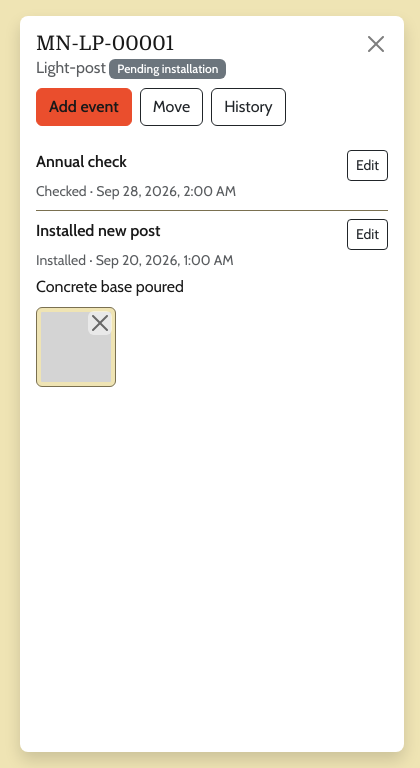
Test: adds an event, shows it first, and tells the map the new status of the asset
Check: the text "Annual check" is shown, box left=36, top=150, right=127, bottom=181
Click the button "Add event" at (84, 107), box left=36, top=88, right=132, bottom=126
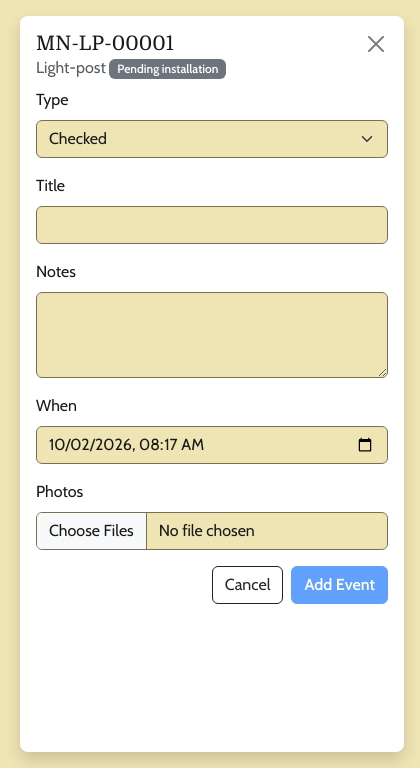
Select "Repaired" in the dropdown labelled "Type" at (212, 139), box left=36, top=120, right=388, bottom=158
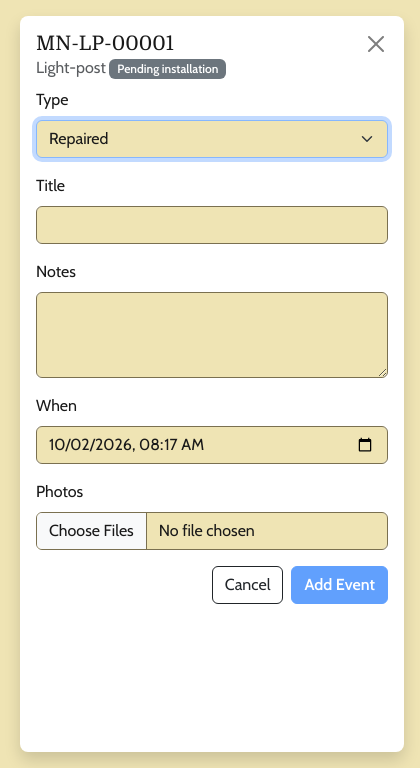
Type "Replaced lamp" into the field labelled "Title" at (212, 225), box left=36, top=206, right=388, bottom=244
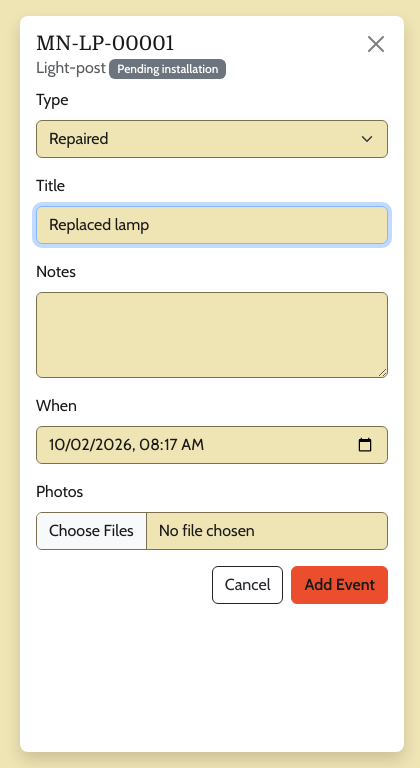
Click the button "Add Event" at (340, 585), box left=291, top=566, right=388, bottom=604
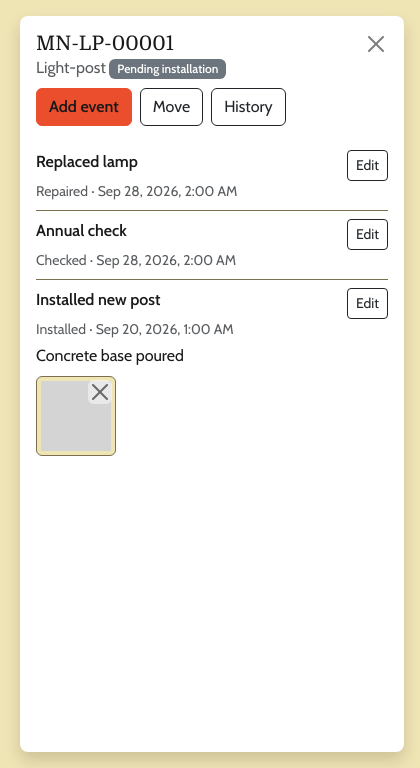
Check: the list item "Replaced lamp Edit Repaired · Sep 28, 2026, 2:00 AM" is shown, box left=36, top=142, right=388, bottom=211
Check: the label labelled "Title" is gone
